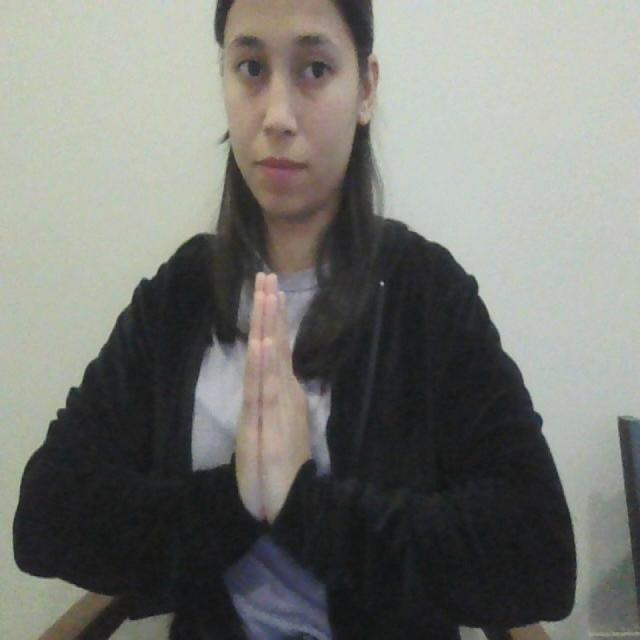Ozur-Dilemek: (228, 262, 318, 544)
